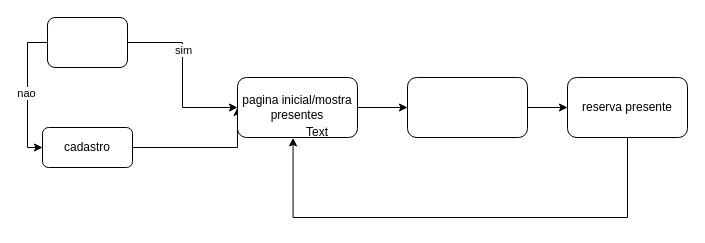
This 705x243 diagram has some shape labels left out. The shapes that lost their labels are listed below. From the top down, each one's box as (x1, y1, x2, y2) in pixels, then its label:
(46, 16, 128, 68): Login verifica se usuario esta cadastrado
(406, 76, 528, 138): entra em presente especifico
